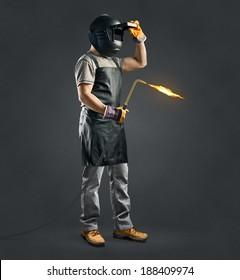gloves: (127, 20, 148, 44), (103, 105, 128, 123)
